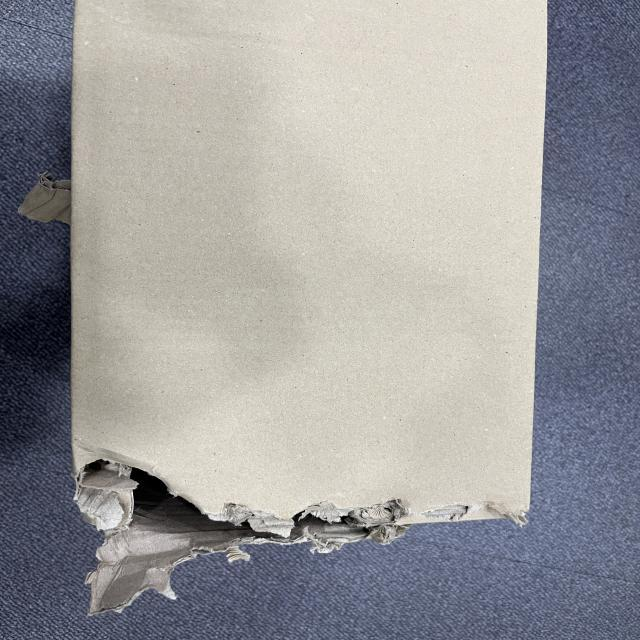hole: (73, 449, 403, 538)
